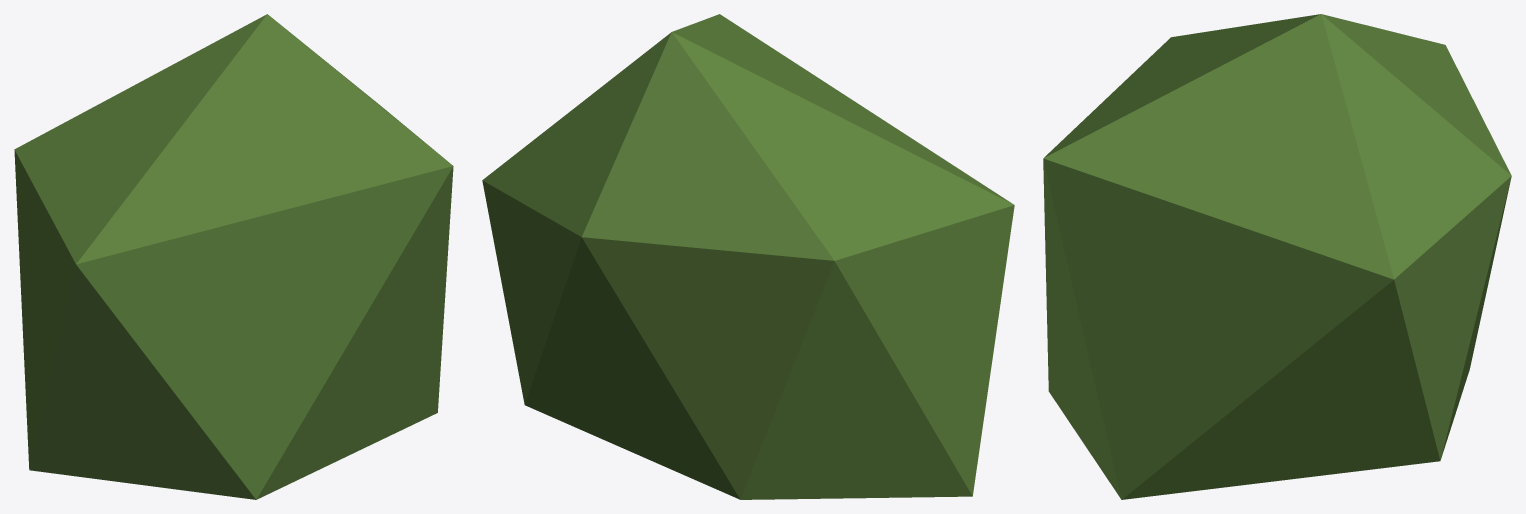
The model's file is Bush2.fbx.
The picture shows the model from 3 angles, left to right: view 1: azimuth 30°, elevation 25°; view 2: azimuth 150°, elevation 25°; view 3: azimuth 270°, elevation 25°; orthographic projection. The views are drawn at different scales.
Visible parts, largest first — view 1: Bush_2a; view 2: Bush_2a; view 3: Bush_2a.
Part boxes in pixels (x1=…): Bush_2a: x1=14, y1=14, x2=453, y2=499; Bush_2a: x1=482, y1=14, x2=1014, y2=499; Bush_2a: x1=1043, y1=14, x2=1511, y2=499.
Size of the model in its own units: 178 by 172 by 149.
